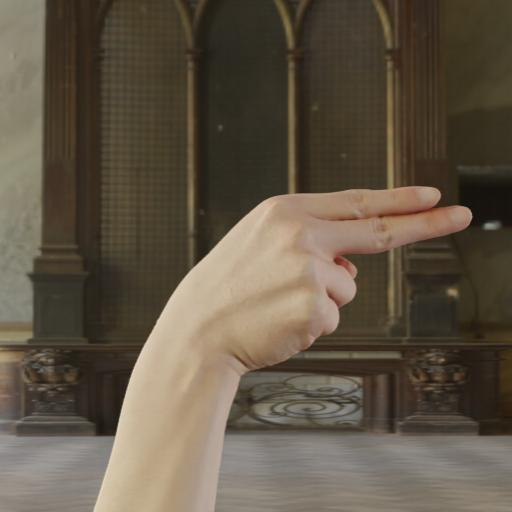H: (119, 169, 479, 421)
